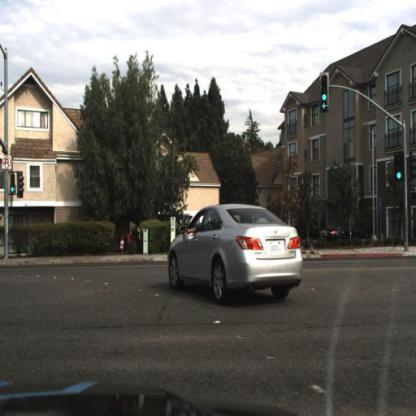car: (163, 197, 306, 304), (322, 223, 363, 242)
trafficLight: (321, 72, 330, 112), (7, 179, 19, 202)
trafficLight-GreenLeft: (11, 170, 19, 195)
